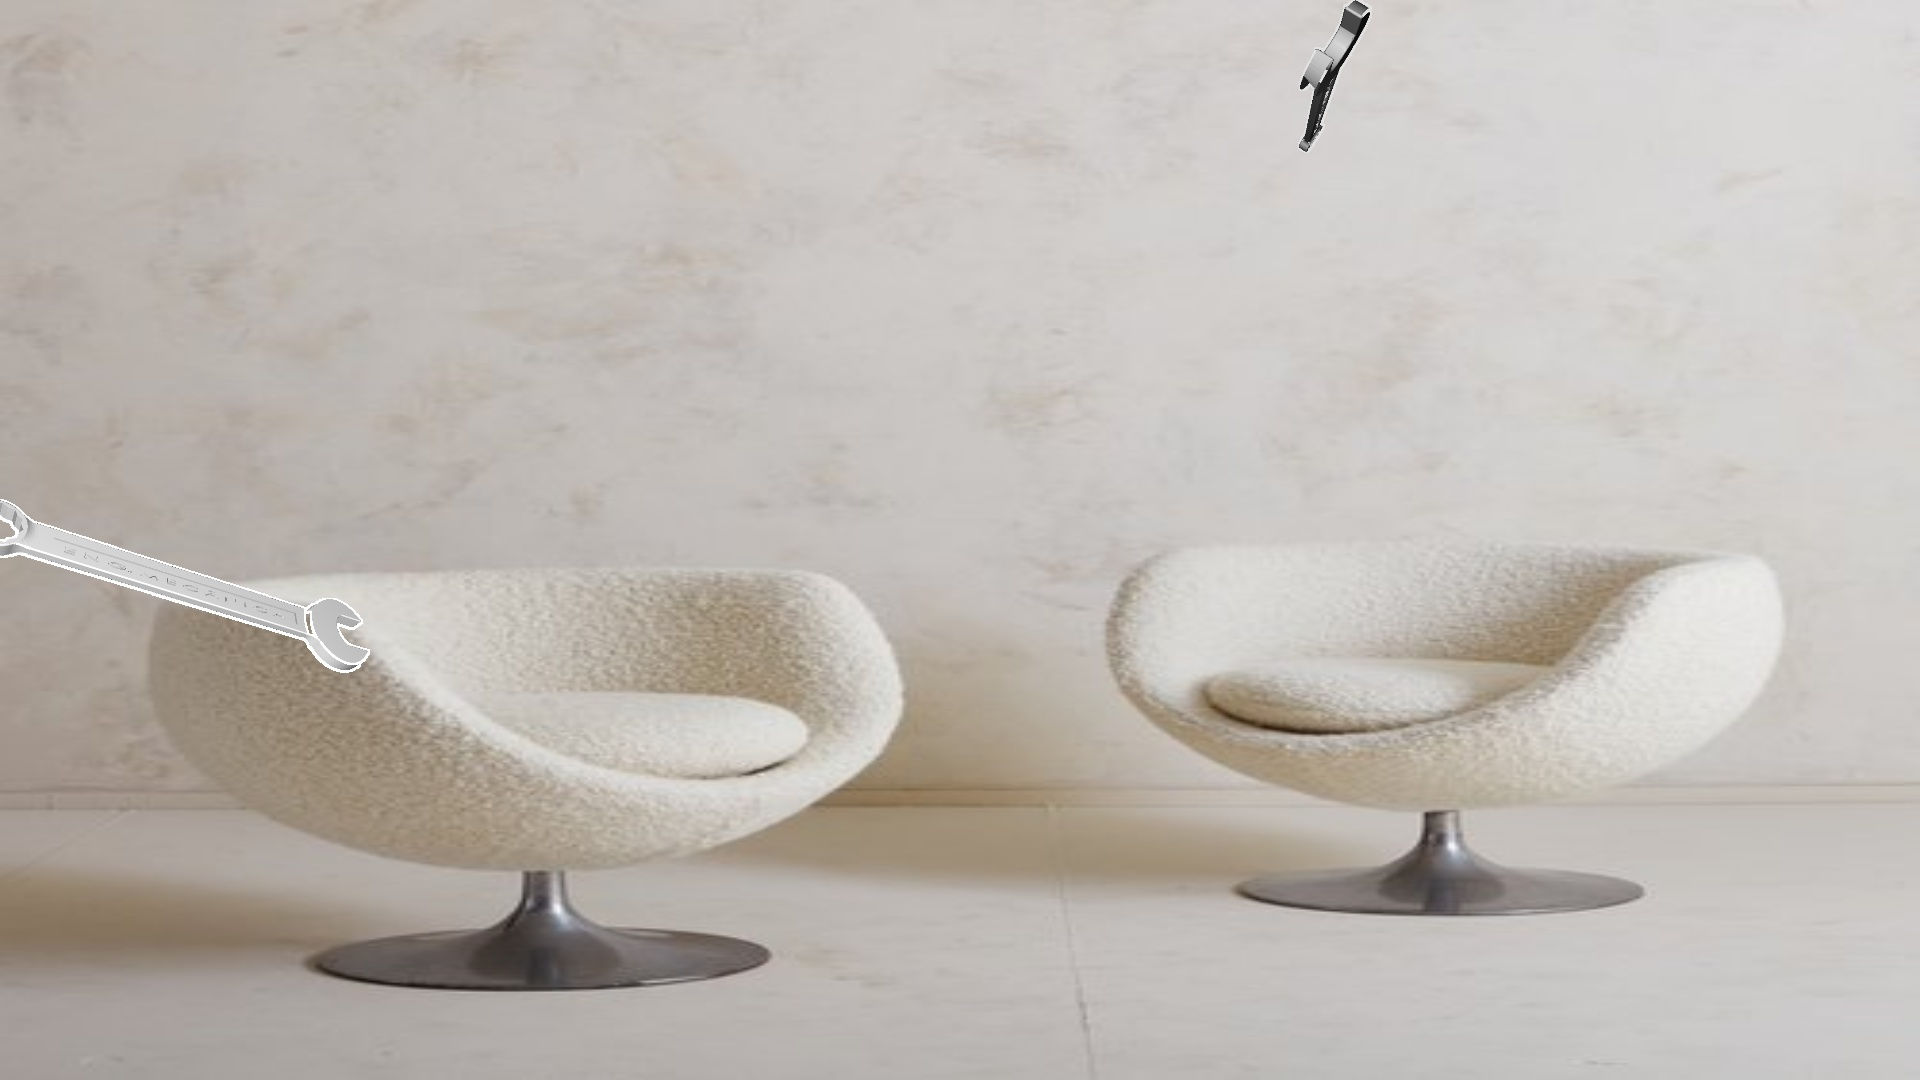Mixed Key: (0, 498, 369, 673), (1298, 0, 1371, 152)
